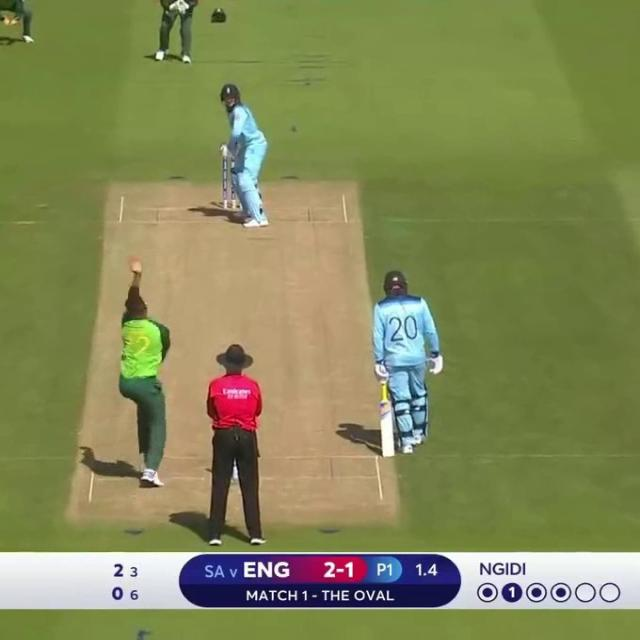bat: (379, 398, 394, 459), (220, 142, 233, 153)
